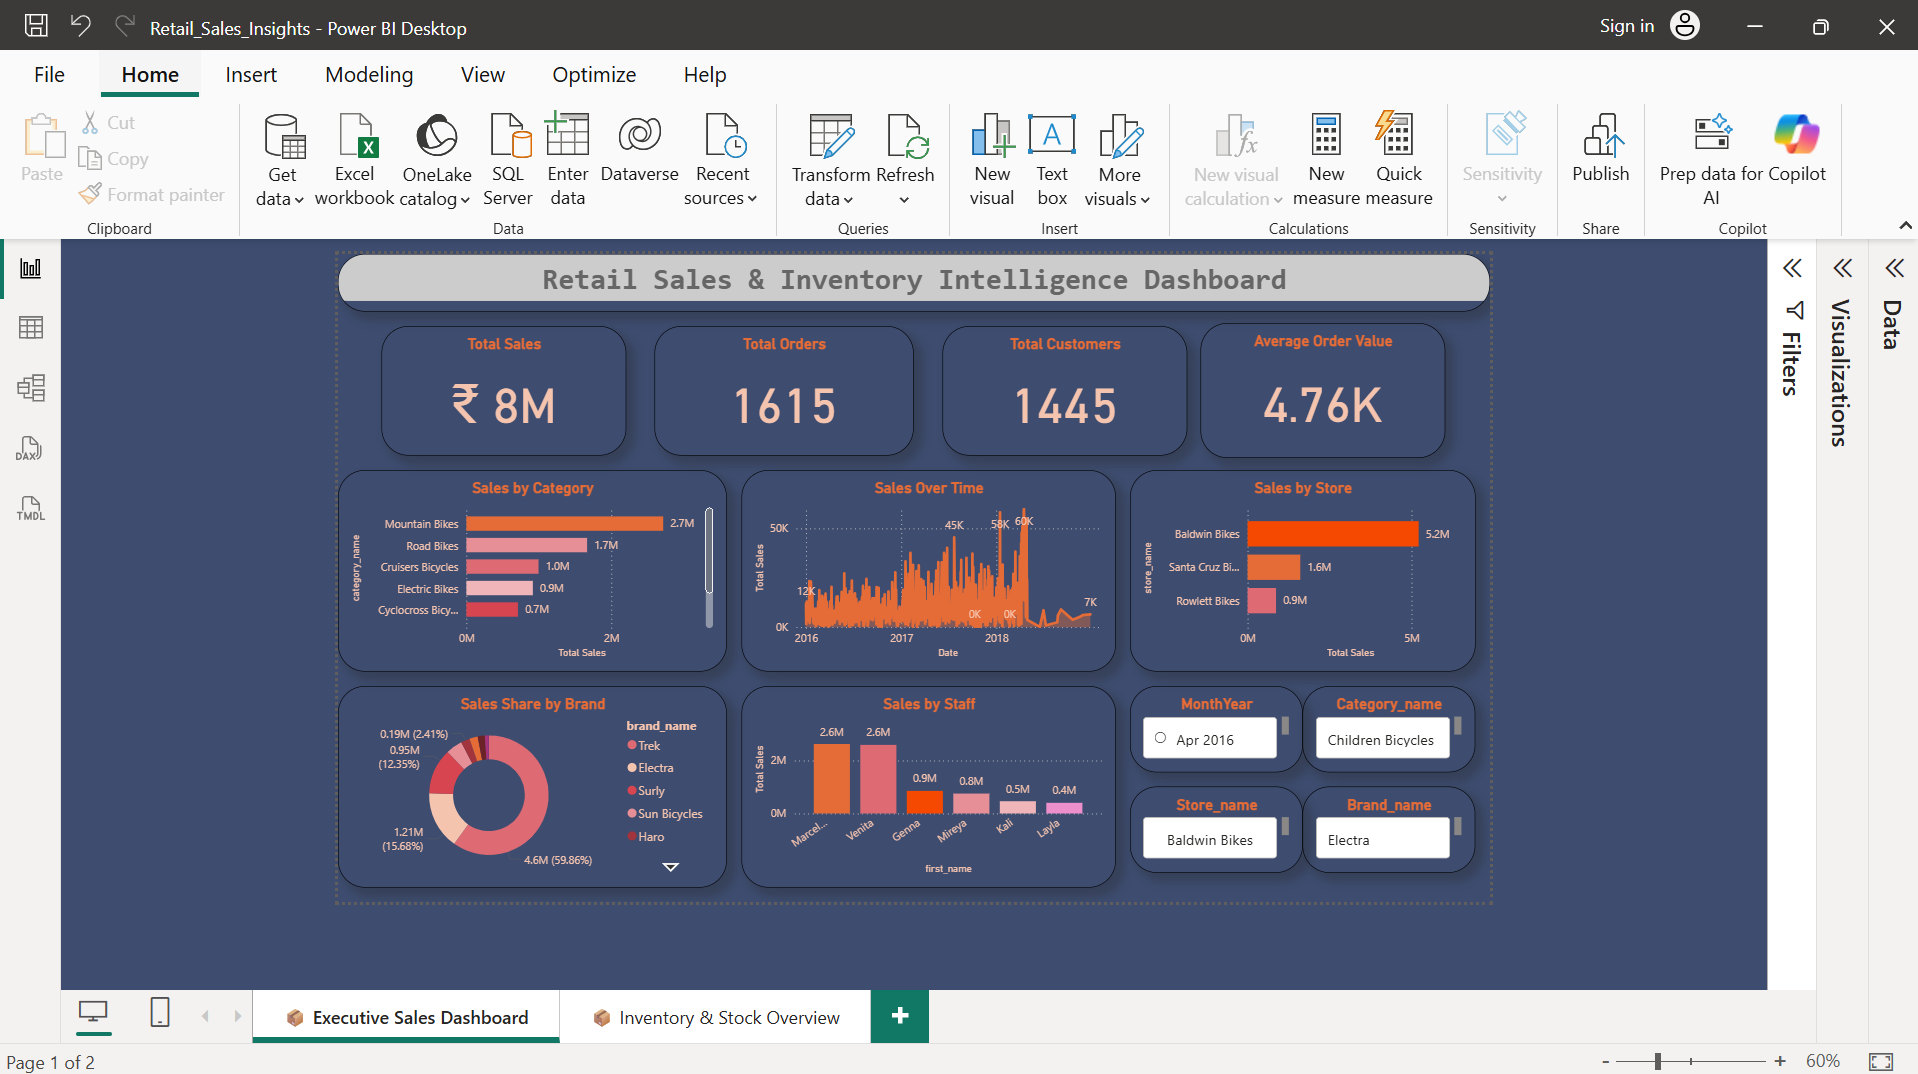

This screenshot's page, from the dashboard's own definition file:
{"tool":"powerbi","page":{"name":"📦 Executive Sales Dashboard","canvas":[1280,720],"ordinal":0},"visuals":[{"type":"lineChart","title":"Sales Over Time","fields":{"Category":["Date.Date"],"Y":["Date.Total Sales"]},"box":[448,240,416,224],"z":0},{"type":"card","title":"Total Sales","fields":{"Values":["Date.Total Sales"]},"box":[48,80,272,144],"z":1000},{"type":"card","title":"Total Orders","fields":{"Values":["Date.Total Orders"]},"box":[352,80,288,144],"z":2000},{"type":"card","title":"Total Customers ","fields":{"Values":["Date.Total Customers"]},"box":[672,80,272,144],"z":3000},{"type":"card","title":"Average Order Value ","fields":{"Values":["Date.Average Order Value"]},"box":[958,77,272,150],"z":4000},{"type":"clusteredBarChart","title":"Sales by Category","fields":{"Category":["categories.category_name"],"Y":["Date.Total Sales"]},"box":[0,240,432,224],"z":5000},{"type":"donutChart","title":"Sales Share by Brand","fields":{"Category":["brands.brand_name"],"Y":["Date.Total Sales"]},"box":[0,480,432,224],"z":6000},{"type":"clusteredColumnChart","title":"Sales by Staff","fields":{"Category":["staffs.first_name"],"Y":["Date.Total Sales"]},"box":[448,480,416,224],"z":7000},{"type":"clusteredBarChart","title":"Sales by Store","fields":{"Category":["stores.store_name"],"Y":["Date.Total Sales"]},"box":[880,240,384,224],"z":8000},{"type":"advancedSlicerVisual","fields":{"Values":["Date.MonthYear"]},"box":[880,480,192,96],"z":9000},{"type":"advancedSlicerVisual","title":"Store_name","fields":{"Values":["stores.store_name"]},"box":[880,592,192,96],"z":10000},{"type":"advancedSlicerVisual","title":"Category_name","fields":{"Values":["categories.category_name"]},"box":[1072,480,192,96],"z":11000},{"type":"advancedSlicerVisual","title":"Brand_name","fields":{"Values":["brands.brand_name"]},"box":[1072,592,192,96],"z":12000},{"type":"actionButton","title":"Retail Sales & Inventory Intelligence Dashboard","box":[0,0,1280,64],"z":13000}]}

Visuals, with their boxes on the page's 1280x720 design canvas (x1, y1, x2, y2). These are canvas units, not pixel positions in the 1918x1074 screenshot, which may show the page scaled, cropped or inside an application window:
"Sales Over Time" lineChart: rect(448, 240, 864, 464)
"Total Sales" card: rect(48, 80, 320, 224)
"Total Orders" card: rect(352, 80, 640, 224)
"Total Customers " card: rect(672, 80, 944, 224)
"Average Order Value " card: rect(958, 77, 1230, 227)
"Sales by Category" clusteredBarChart: rect(0, 240, 432, 464)
"Sales Share by Brand" donutChart: rect(0, 480, 432, 704)
"Sales by Staff" clusteredColumnChart: rect(448, 480, 864, 704)
"Sales by Store" clusteredBarChart: rect(880, 240, 1264, 464)
advancedSlicerVisual - Date.MonthYear: rect(880, 480, 1072, 576)
"Store_name" advancedSlicerVisual: rect(880, 592, 1072, 688)
"Category_name" advancedSlicerVisual: rect(1072, 480, 1264, 576)
"Brand_name" advancedSlicerVisual: rect(1072, 592, 1264, 688)
"Retail Sales & Inventory Intelligence Dashboard" actionButton: rect(0, 0, 1280, 64)
